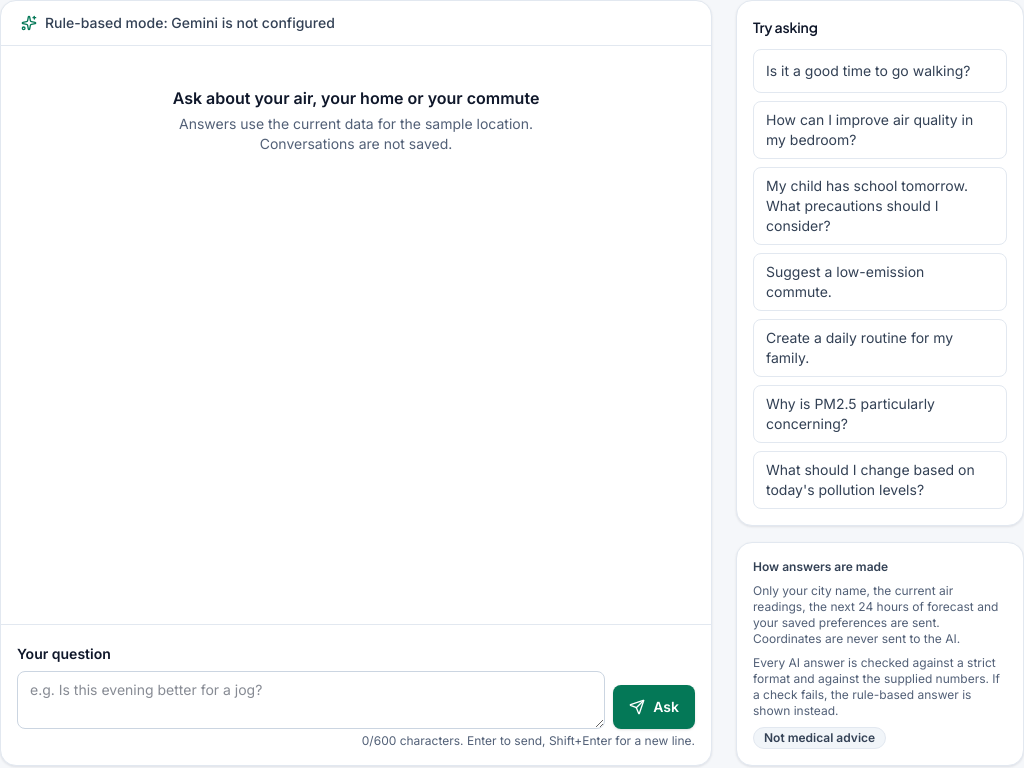
Test: AssistantChat › answers in rule-based mode when Gemini is not configured, and says so
This screenshot has width=1024, height=768.
Expected: the text "Rule-based mode: Gemini is not configured" is shown, [21,13,335,33]
Click the button "Is it a good time to go walking?" at {"x": 880, "y": 71}, box [753,49,1007,93]
(page scrolled)
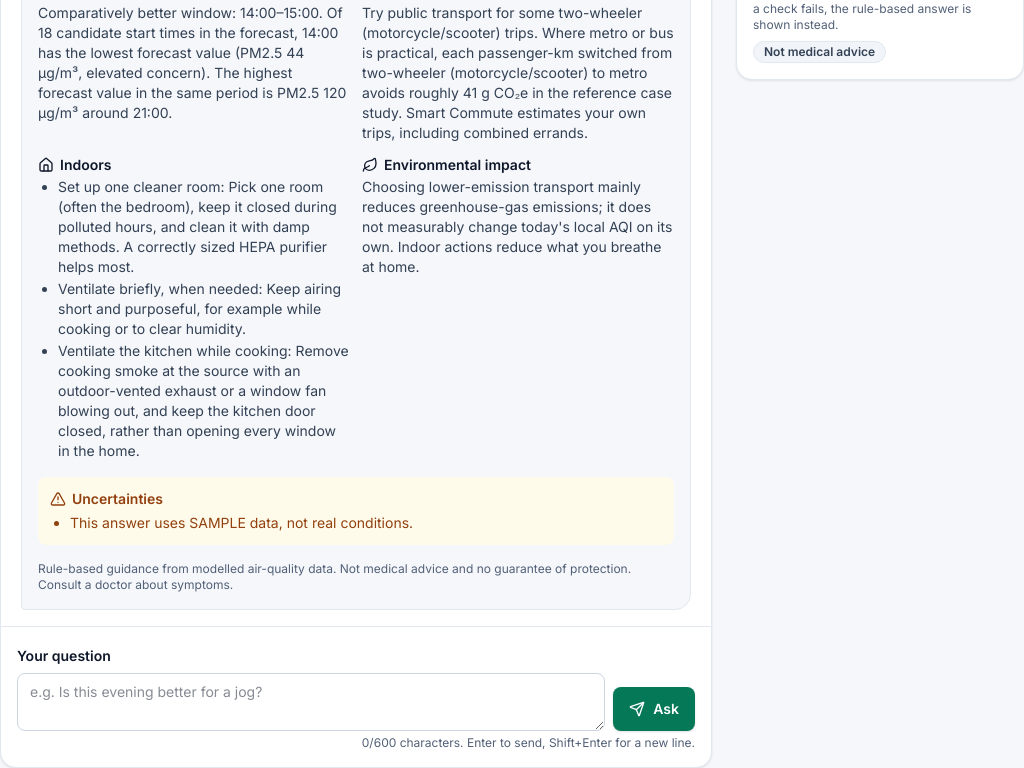
Result: the list item "This answer uses SAMPLE data, not real conditions." is shown at [70,514,413,531]
